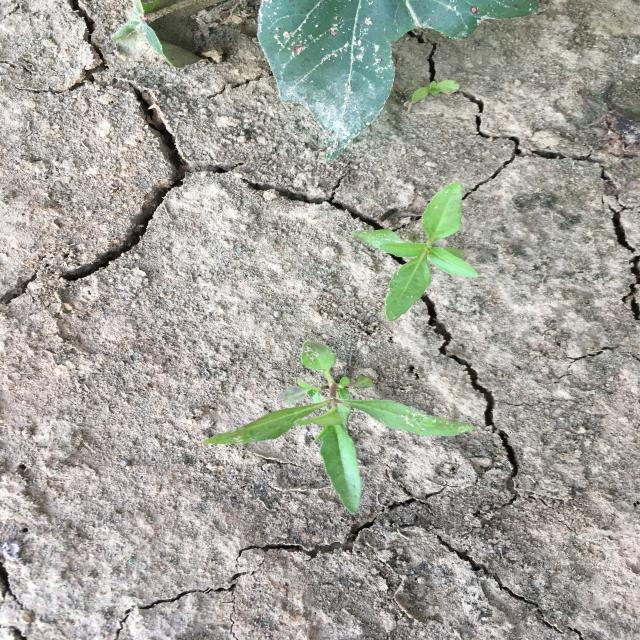Eclipta: (200, 337, 479, 516), (348, 181, 481, 323)
